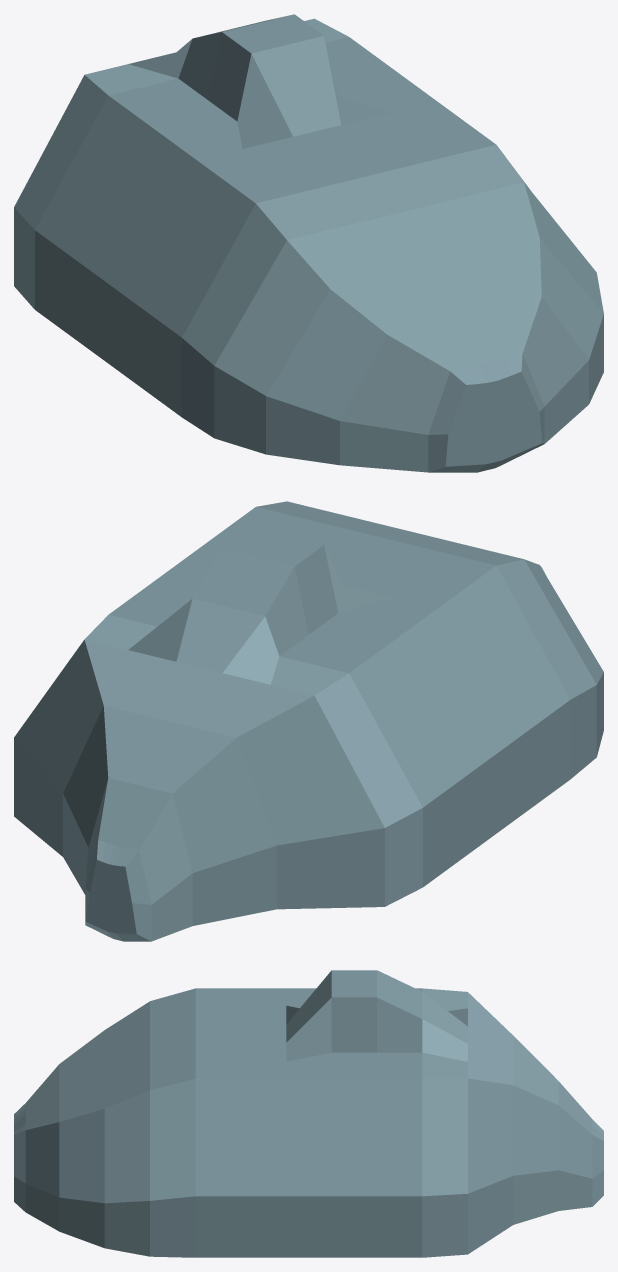
The model's file is ballard_scout_a.glb.
3 renders of one model, top to bottom at view 1: azimuth 30°, elevation 25°; view 2: azimuth 150°, elevation 25°; view 3: azimuth 270°, elevation 25°, orthographic. The views are drawn at different scales.
Parts seen in each view (by area): view 1: ballard_scout_a; view 2: ballard_scout_a; view 3: ballard_scout_a.
Boxes of the visible parts, x1,y1,x2,y2 form: ballard_scout_a: [14, 14, 603, 472]; ballard_scout_a: [14, 501, 603, 941]; ballard_scout_a: [14, 970, 603, 1257].
Bounding box in the file's own units: 2.4 × 1.66 × 4.1.
